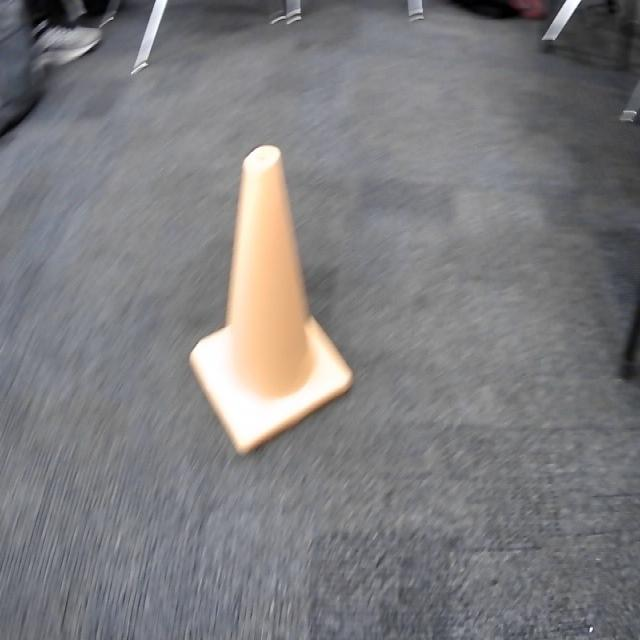cone: (190, 144, 354, 452)
